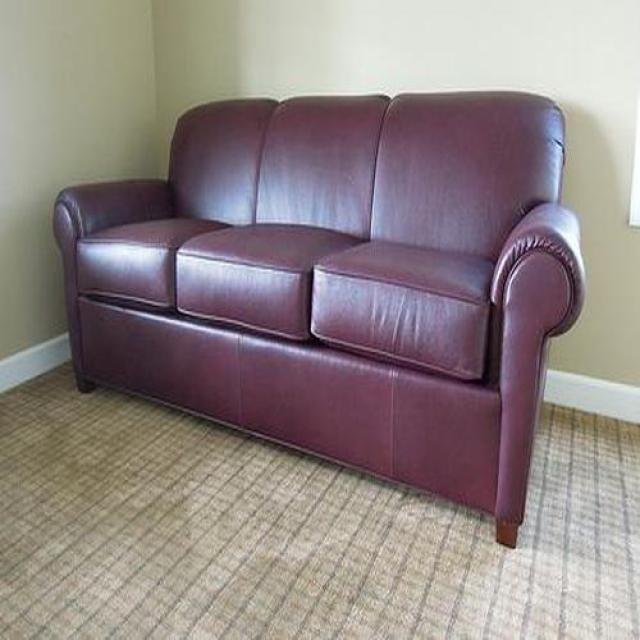sofa: (52, 92, 585, 550)
